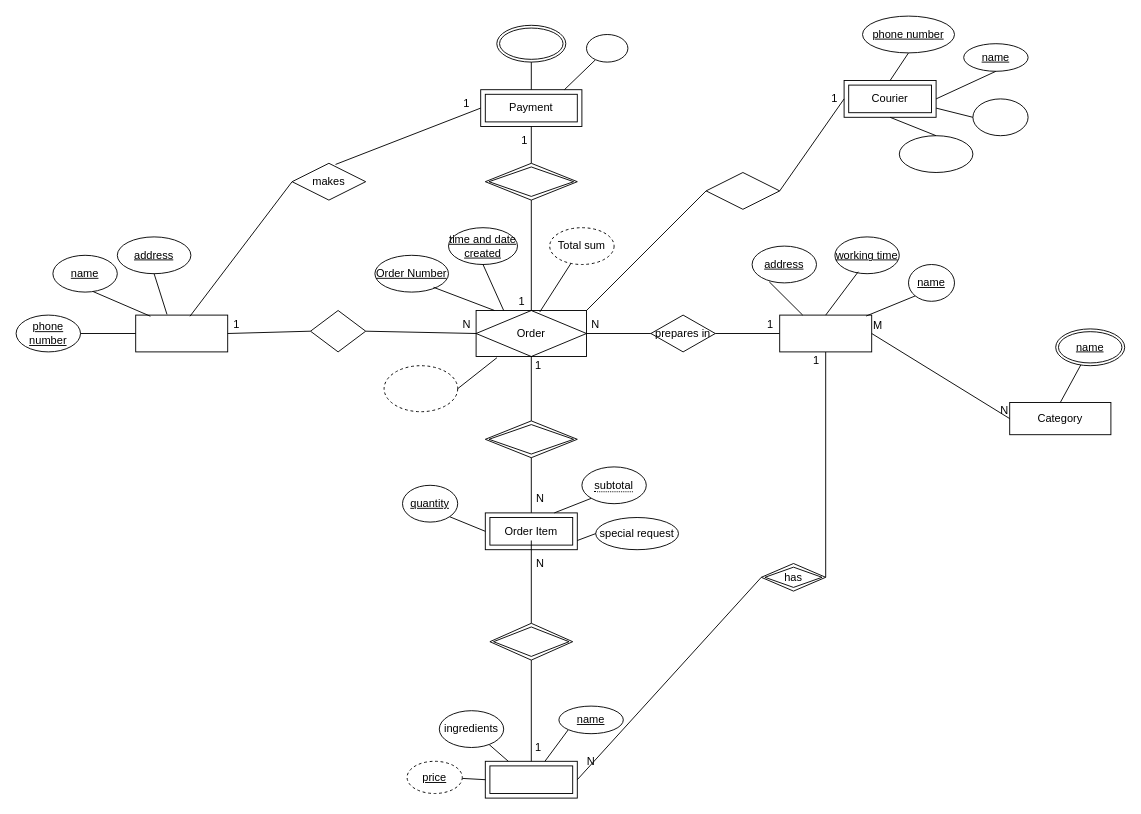
This 1141x814 diagram has some shape labels left out. The box of each missing label's shape, as (x1, y1, x2, y2) in pixels:
contains: (484, 420, 577, 458)
creates: (310, 310, 366, 352)
delivers by: (705, 172, 780, 209)
delivery tax: (898, 135, 973, 172)
expected time of delivering: (383, 365, 458, 412)
Menu Item: (484, 760, 577, 798)
references: (489, 622, 573, 660)
requires: (484, 162, 577, 200)
Restaurant: (779, 314, 872, 352)
tip: (586, 34, 628, 62)
type: (496, 24, 566, 62)
User: (135, 314, 228, 352)
vehicle type: (972, 98, 1028, 136)
